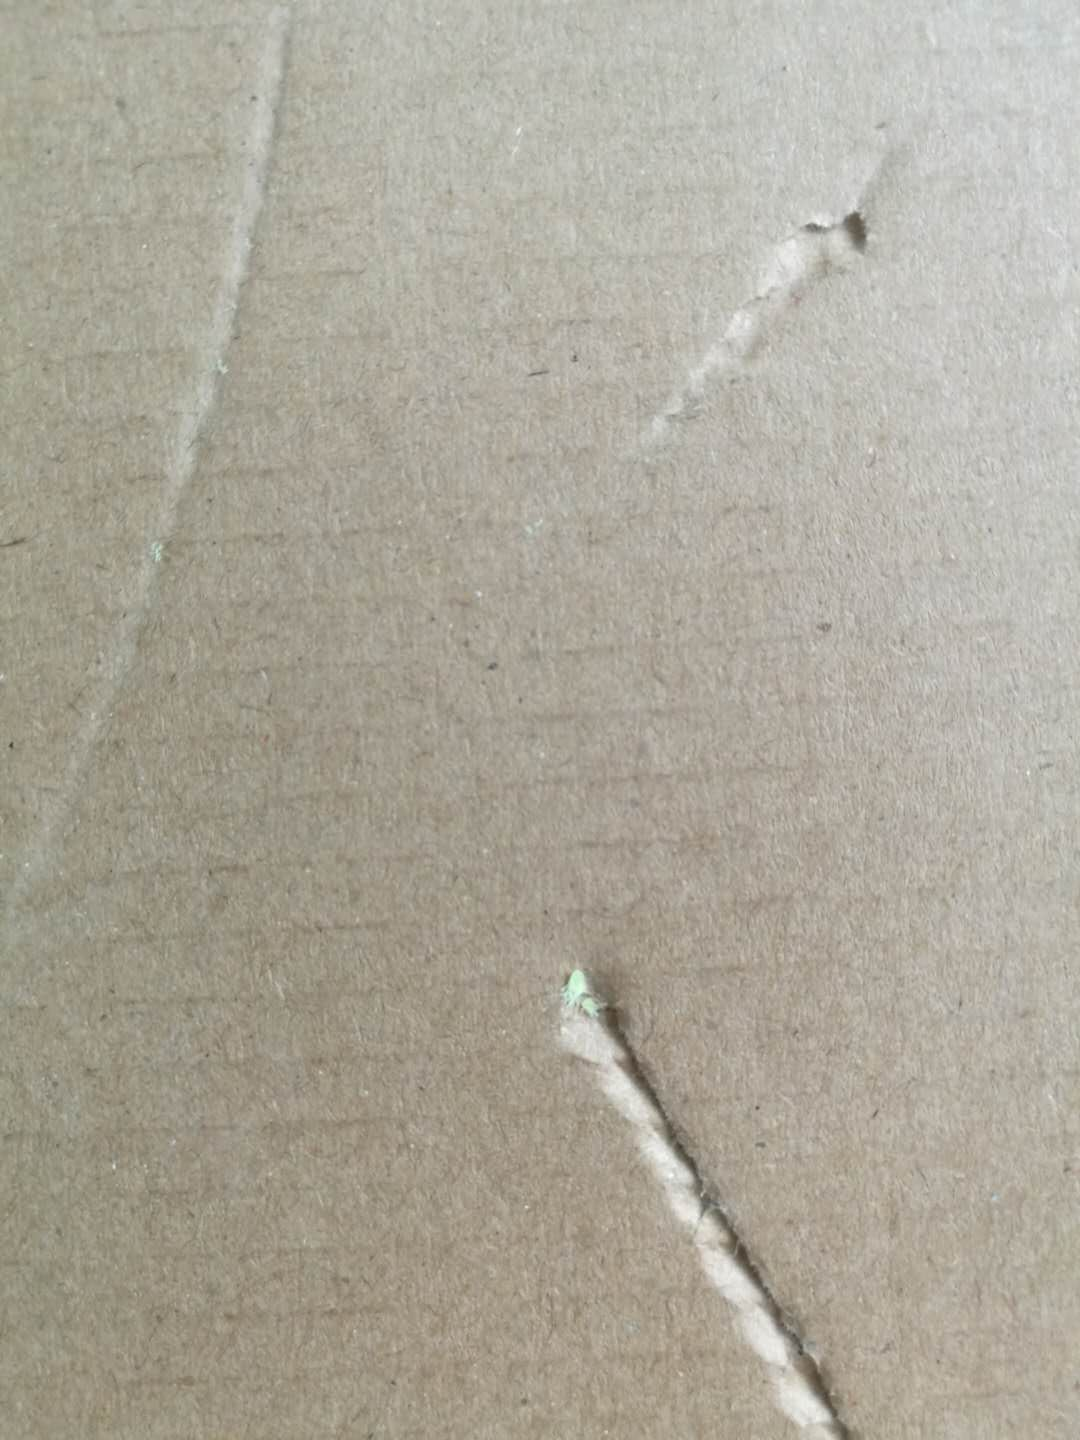defect: (9, 2, 332, 935), (531, 937, 894, 1440), (579, 130, 935, 476)
